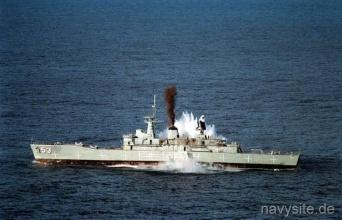warship: (24, 93, 303, 169)
